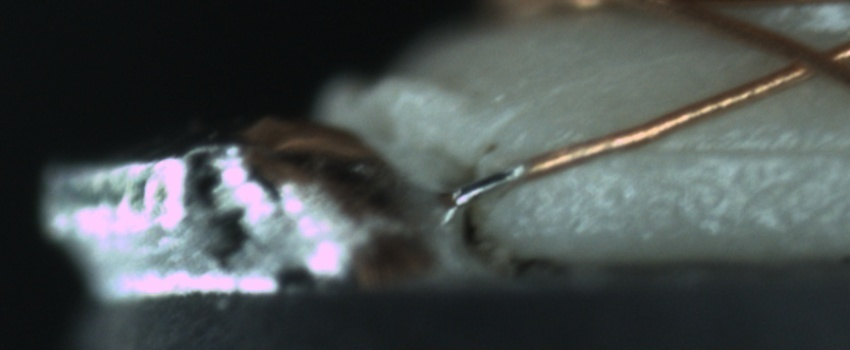CL: (764, 28, 846, 88)
DL: (626, 121, 846, 182)
TS: (447, 163, 520, 207)
